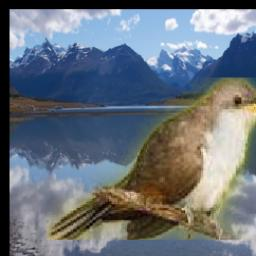Cuckoo: (48, 79, 256, 241)
